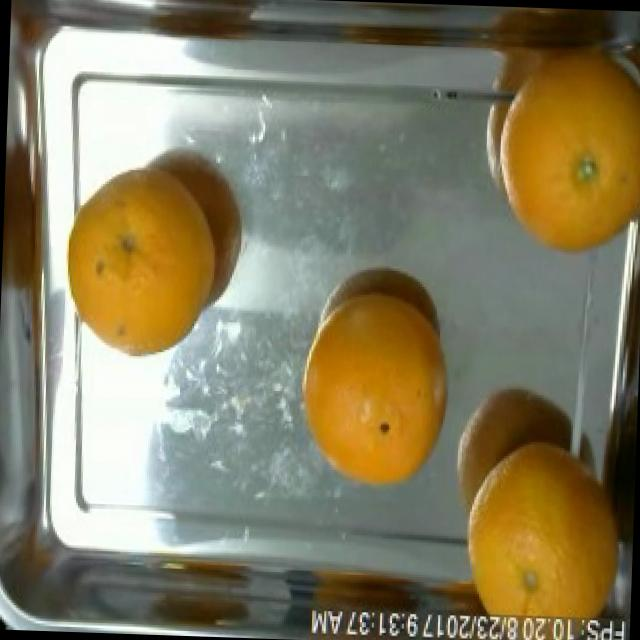Fruit: (459, 421, 636, 640), (290, 292, 465, 502)
